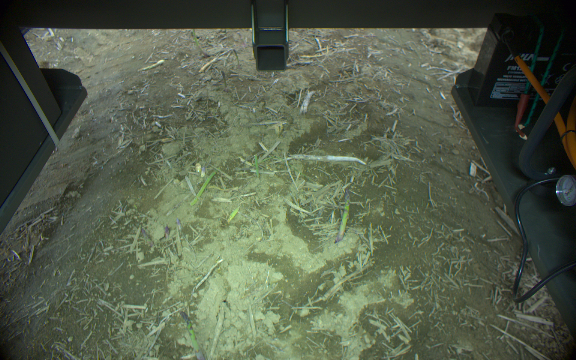aspa: (177, 311, 207, 360), (190, 170, 216, 207), (335, 189, 352, 242), (190, 29, 208, 58), (227, 203, 240, 225), (252, 151, 261, 181)
